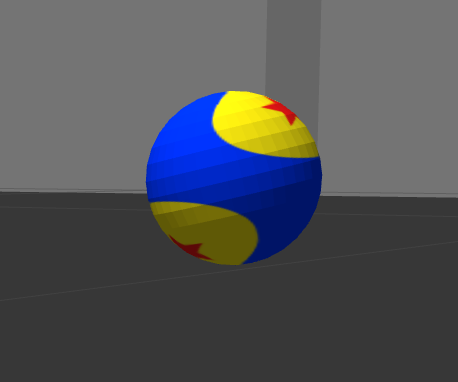toy story ball: (145, 90, 324, 267)
